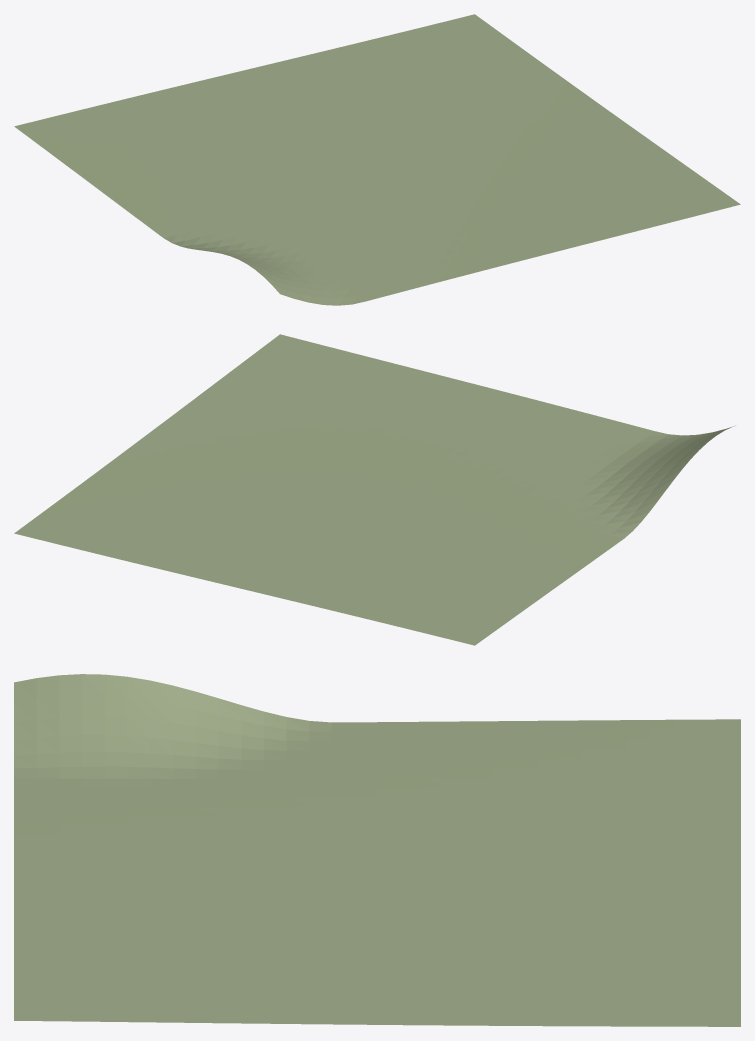
The model's file is desert-21-26.glb.
3 views of the same model, one above another, from view 1: azimuth 30°, elevation 25°; view 2: azimuth 150°, elevation 25°; view 3: azimuth 270°, elevation 25° (orthographic). The views are drawn at different scales.
Parts seen in each view (by area): view 1: desert-21-26; view 2: desert-21-26; view 3: desert-21-26.
Part boxes in pixels (x1=…): desert-21-26: x1=14, y1=14, x2=740, y2=305; desert-21-26: x1=14, y1=334, x2=735, y2=645; desert-21-26: x1=14, y1=674, x2=740, y2=1026.
Bounding box in the file's own units: 512 × 37.61 × 512.
